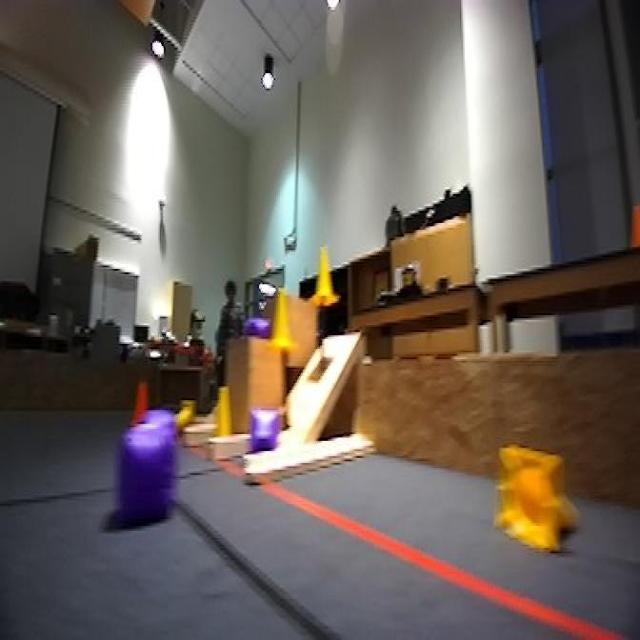frc_cone: (488, 429, 582, 562), (311, 240, 342, 306), (272, 294, 299, 352), (164, 402, 206, 432), (214, 381, 233, 436)
frc_cube: (120, 426, 182, 524), (248, 407, 284, 453), (254, 312, 278, 347)
